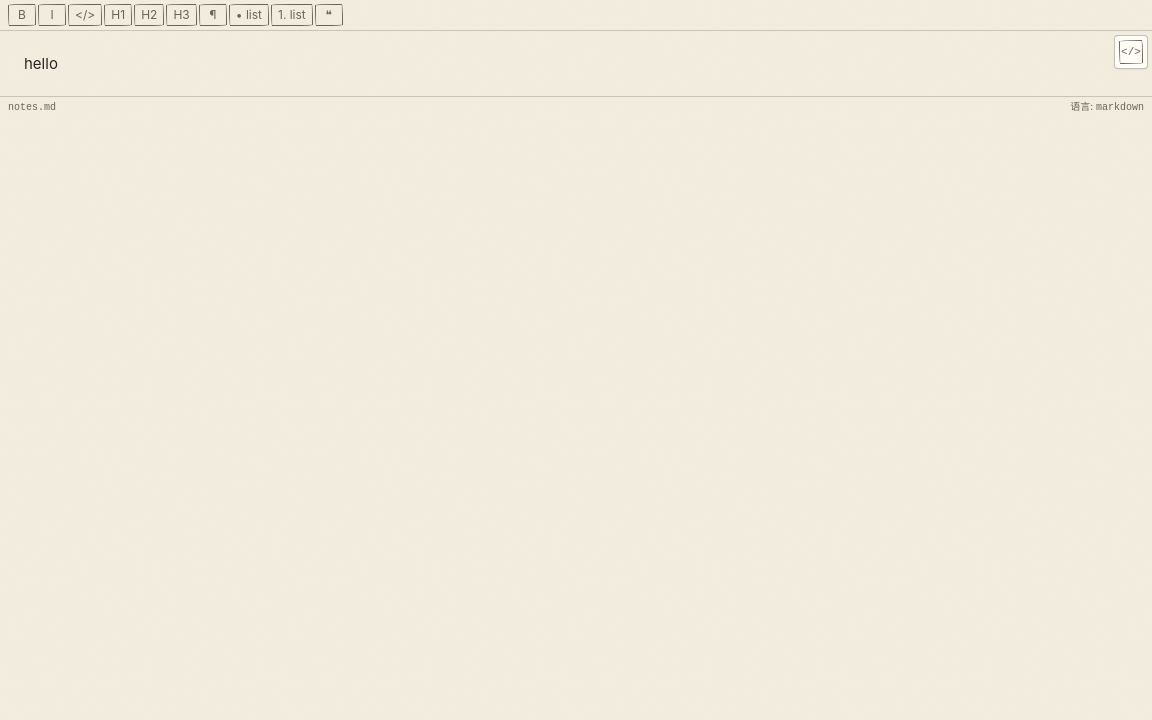
MonacoTab — edit + Ctrl+S save flow (AC10) › saves WYSIWYG edits round-tripped back to markdown on Ctrl+S
This screenshot has width=1152, height=720.
Click the rendered block: it swaps to a raw-source textarea (Typora).
Press the mouse on the element showing "hello" at (41, 63), box x1=24 y1=54 x2=58 y2=73
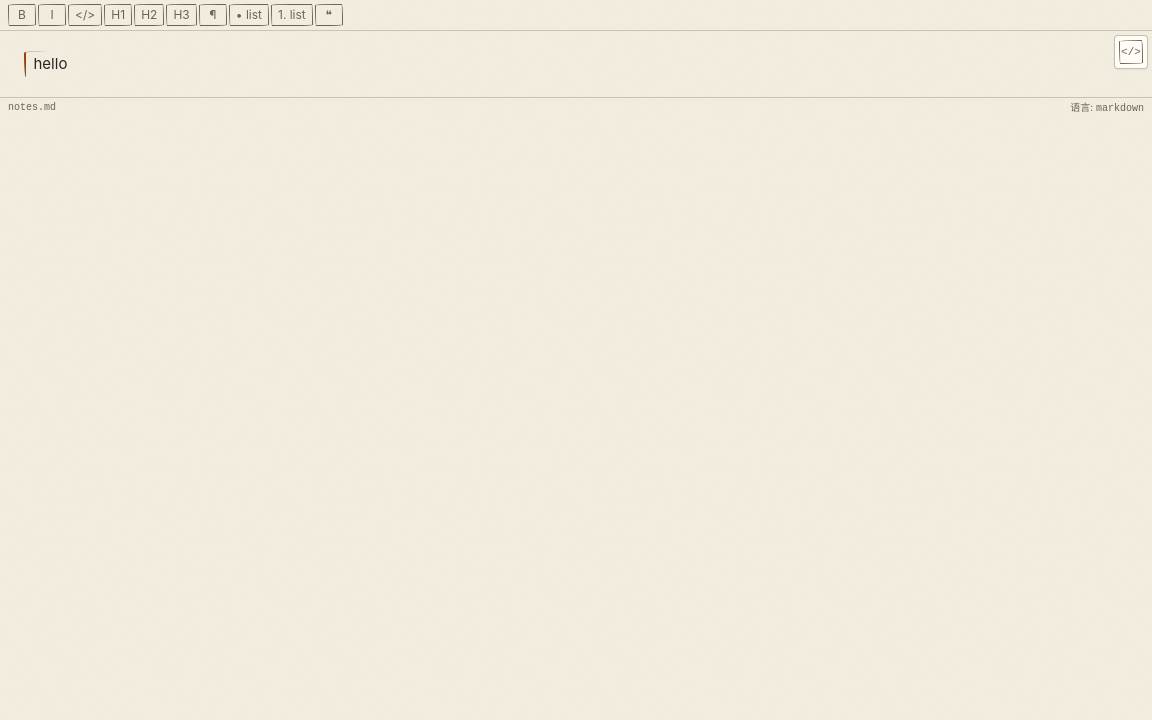
Replace the text in the text box with "hello nuomi" at (576, 64), box x1=24 y1=51 x2=1128 y2=77
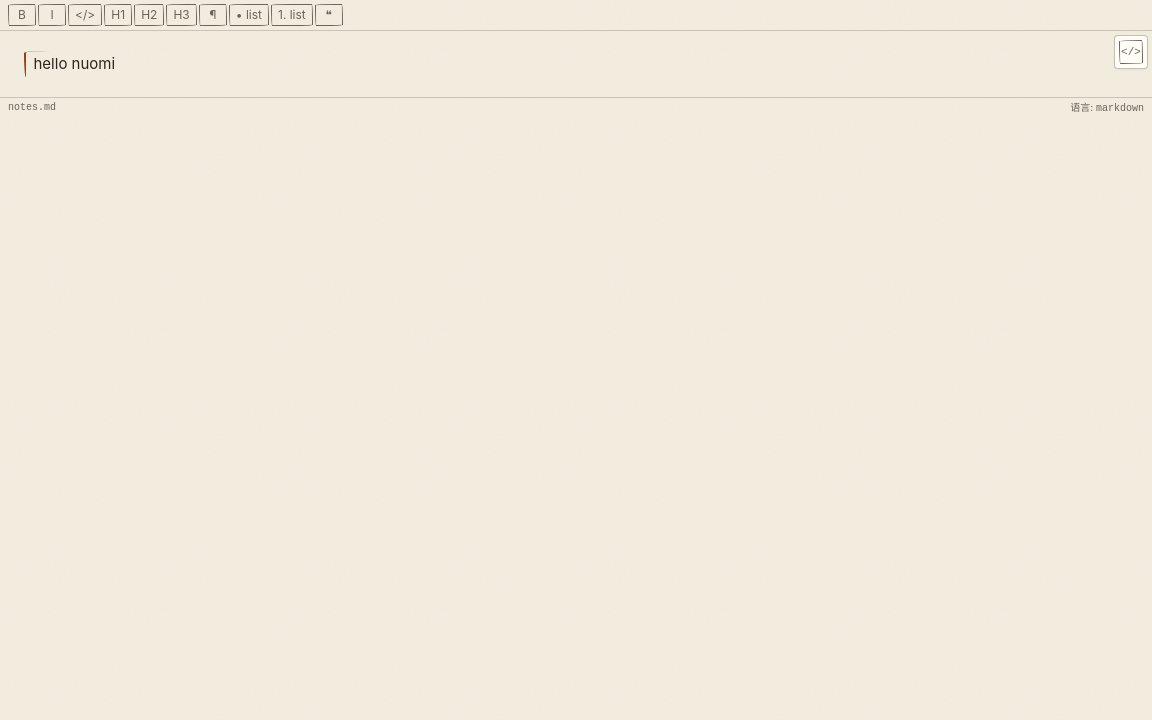
Press s in the text box, box x1=24 y1=51 x2=1128 y2=77
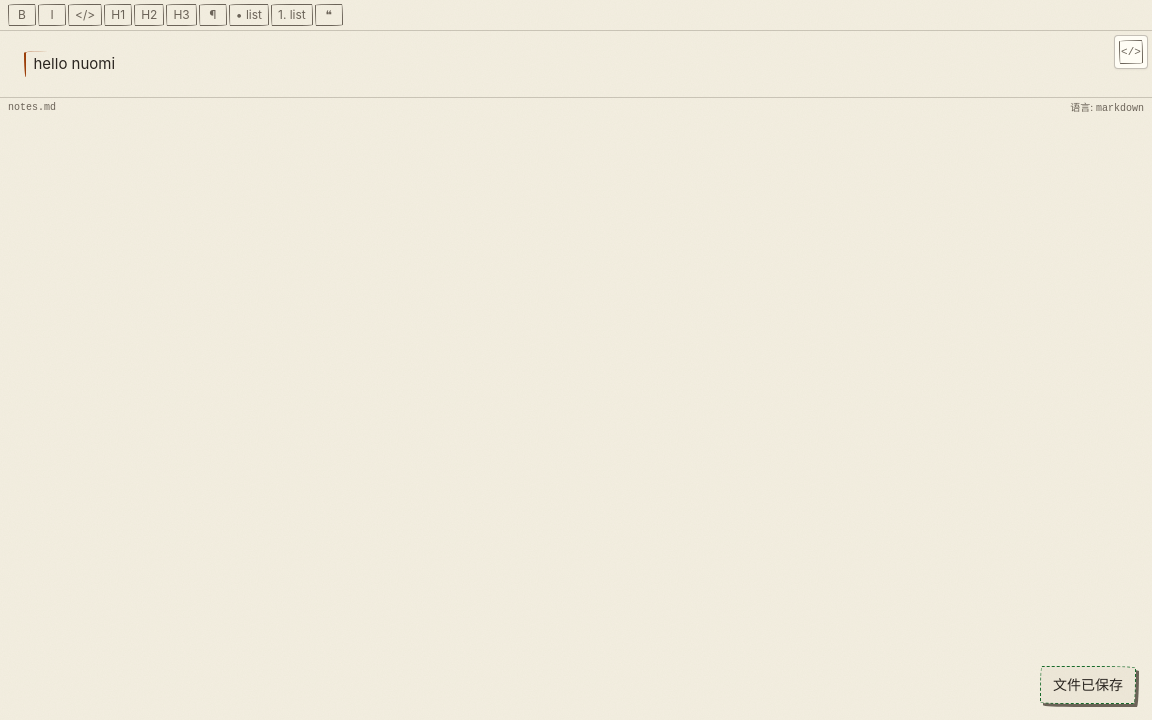
Expected: the button "文件已保存" is shown, x1=1053 y1=675 x2=1123 y2=695
